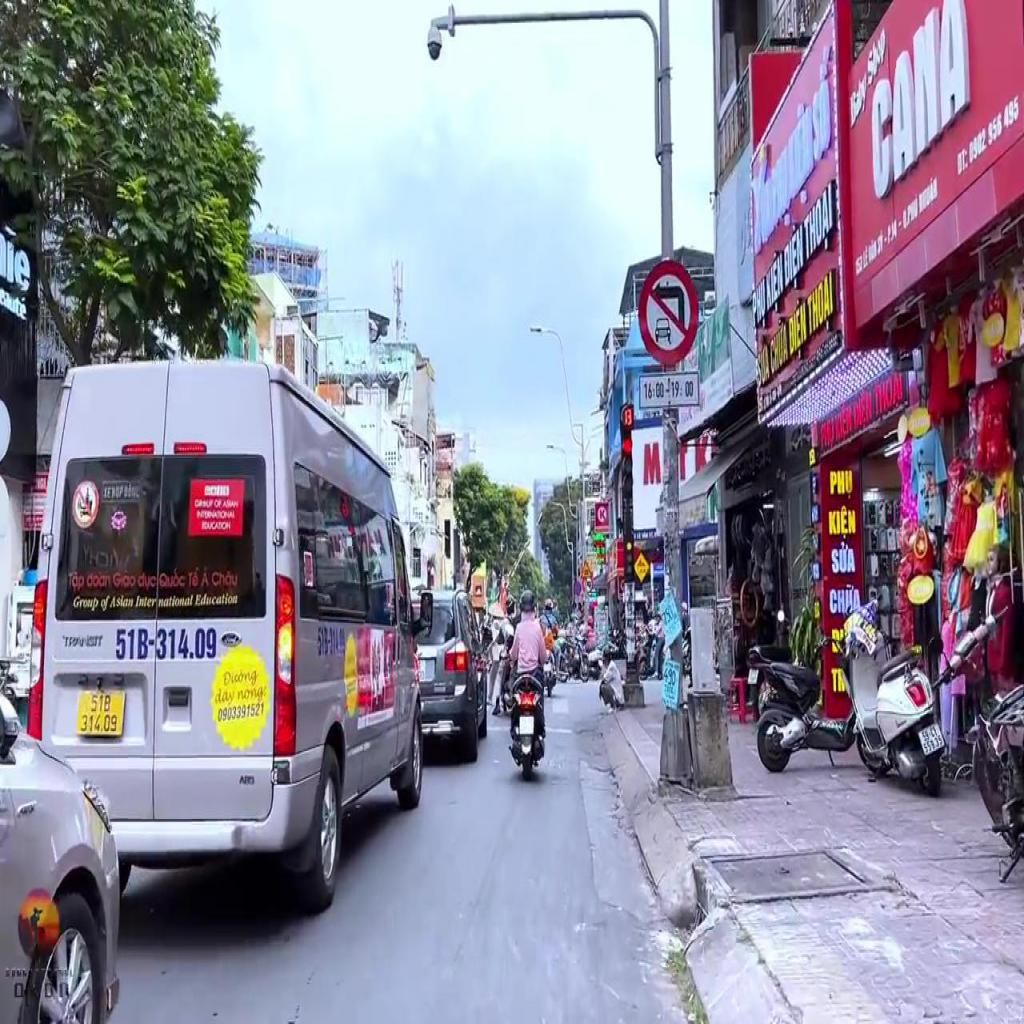cam_o_to_re_trai: (636, 259, 698, 363)
khac: (640, 371, 699, 410)
